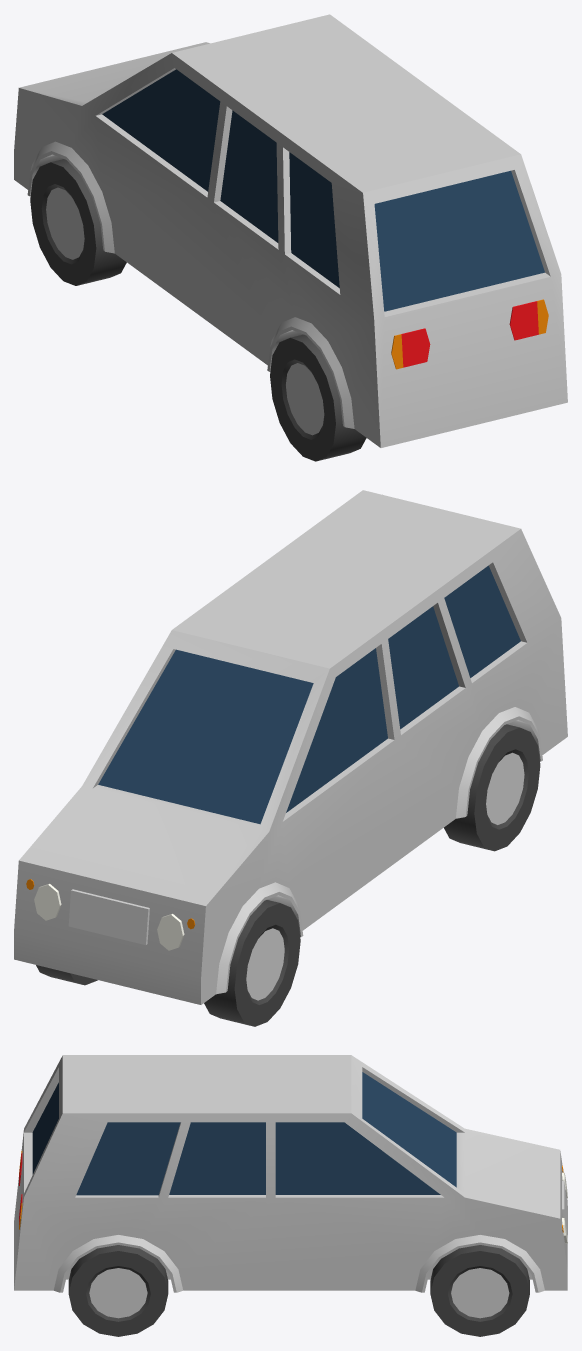
File: bus.glb
3 renders of one model, top to bottom at view 1: azimuth 30°, elevation 25°; view 2: azimuth 150°, elevation 25°; view 3: azimuth 270°, elevation 25°, orthographic. The views are drawn at different scales.
Parts seen in each view (by area): view 1: Bus; view 2: Bus; view 3: Bus.
Boxes of the visible parts, box(x1,y1,x2,y2) form: Bus: box(14, 14, 567, 461); Bus: box(14, 490, 567, 1026); Bus: box(14, 1055, 567, 1336).
Size of the model in its own units: 1.39 by 1.85 by 4.33.
